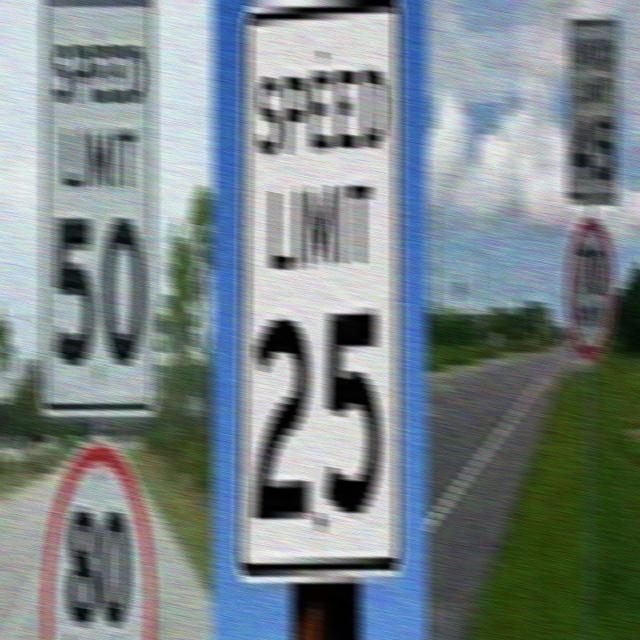speedLimit25: (236, 10, 404, 579)
speedLimit45: (566, 19, 618, 205)
speedLimit50: (43, 13, 162, 416)
